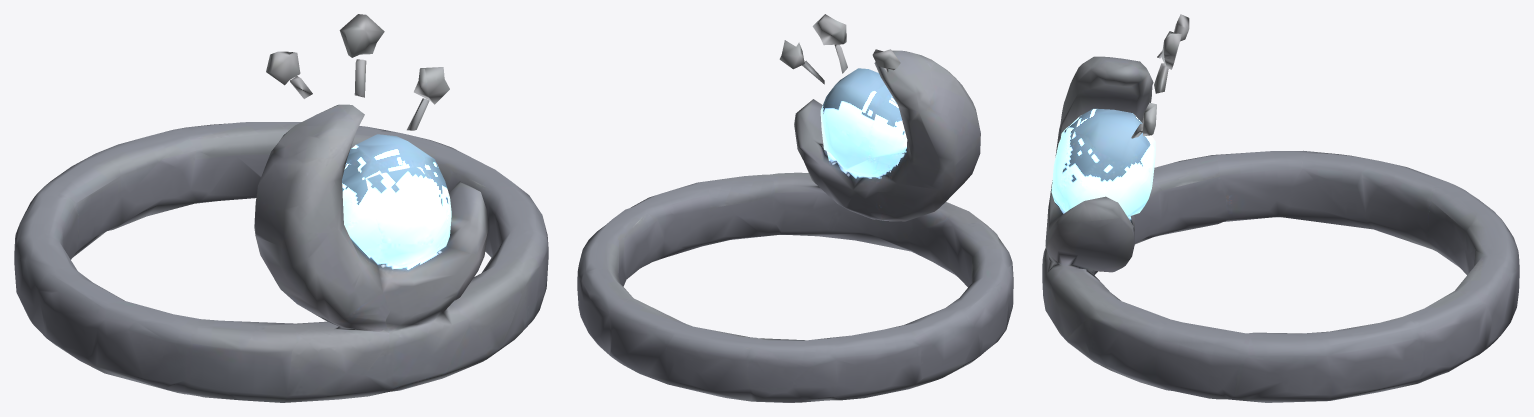
File: hat_starCirclet-DPPcx9eP.glb
3 renders of one model, left to right at view 1: azimuth 30°, elevation 25°; view 2: azimuth 150°, elevation 25°; view 3: azimuth 270°, elevation 25°, orthographic. The views are drawn at different scales.
Parts seen in each view (by area): view 1: tripo_node_9dd734c5-2ded-4ba0-9e81-82b1b3d6c4db; view 2: tripo_node_9dd734c5-2ded-4ba0-9e81-82b1b3d6c4db; view 3: tripo_node_9dd734c5-2ded-4ba0-9e81-82b1b3d6c4db.
Part boxes in pixels (left/top/right/bottom): tripo_node_9dd734c5-2ded-4ba0-9e81-82b1b3d6c4db: left=14, top=14, right=548, bottom=402; tripo_node_9dd734c5-2ded-4ba0-9e81-82b1b3d6c4db: left=577, top=14, right=1013, bottom=402; tripo_node_9dd734c5-2ded-4ba0-9e81-82b1b3d6c4db: left=1042, top=14, right=1519, bottom=402.
Bounding box in the file's own units: 1 × 0.6555 × 0.9948.
1 material, 1 textured.
